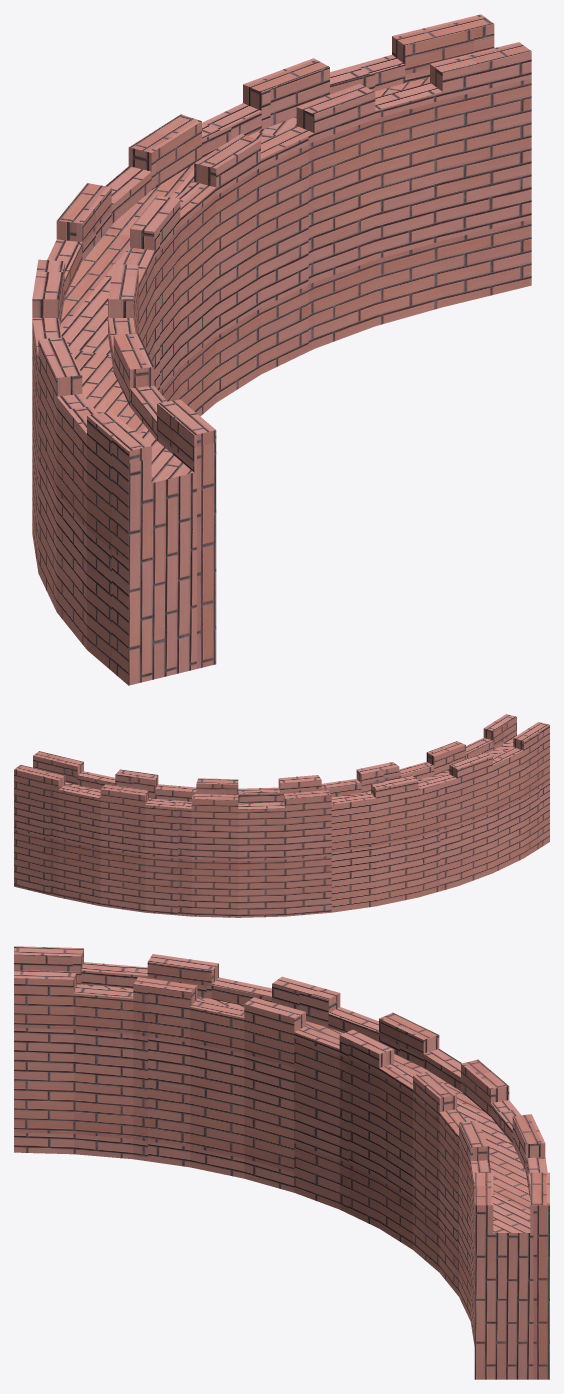
File: wall.fbx
3 views of the same model, one above another, from view 1: azimuth 30°, elevation 25°; view 2: azimuth 150°, elevation 25°; view 3: azimuth 270°, elevation 25° (orthographic). The views are drawn at different scales.
Visible parts, largest first — view 1: Cube; view 2: Cube; view 3: Cube.
Boxes of the visible parts, box(x1,y1,x2,y2) form: Cube: box(32, 14, 531, 685); Cube: box(14, 714, 549, 917); Cube: box(14, 946, 549, 1379).
Bounding box in the file's own units: 7981 × 2509 × 6981.
1 material, 1 textured.
